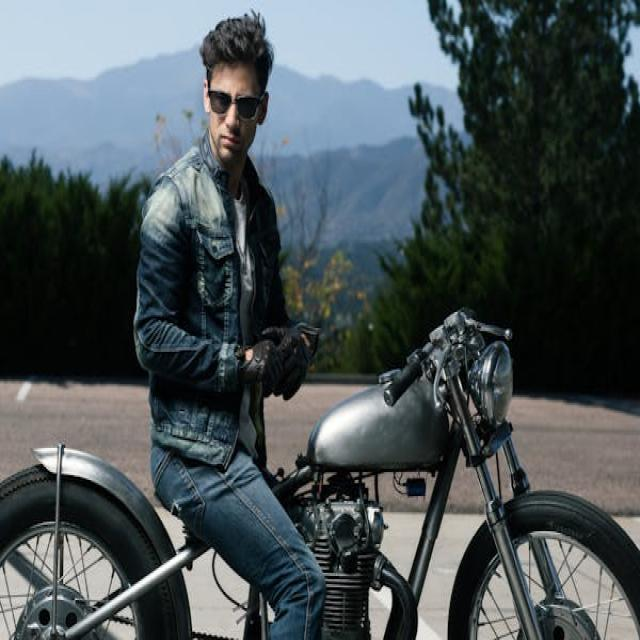Real human 2: (128, 3, 352, 640)
